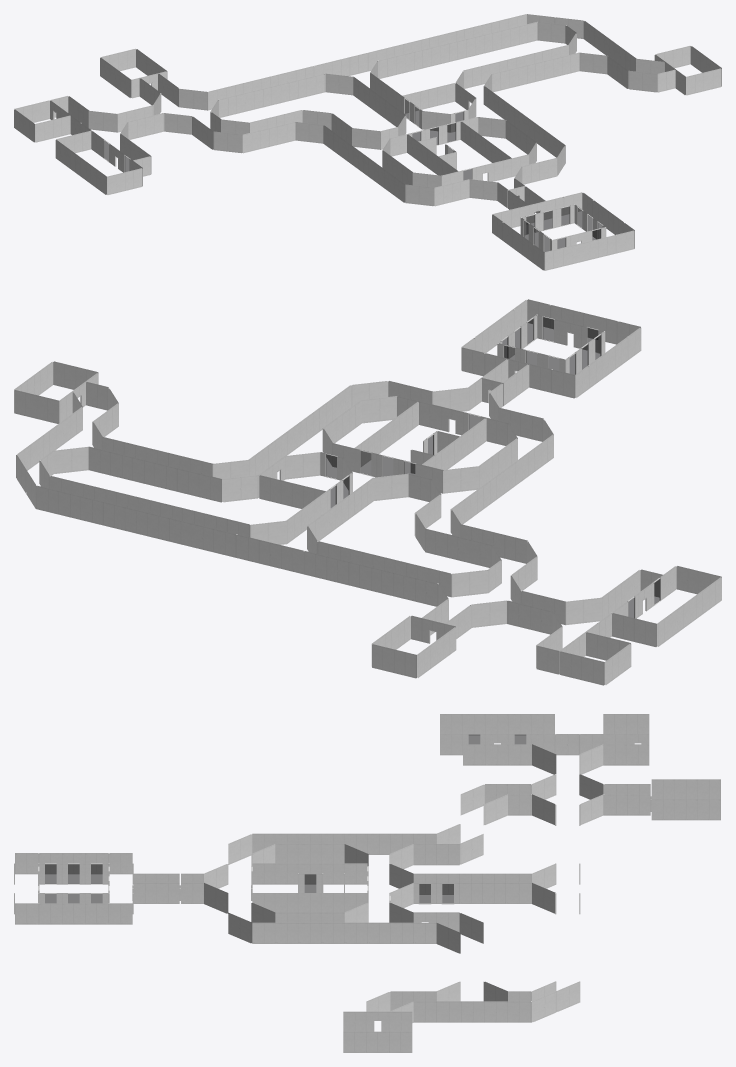
Rendered from Walls.fbx.
The picture shows the model from 3 angles, top to bottom: view 1: azimuth 30°, elevation 25°; view 2: azimuth 150°, elevation 25°; view 3: azimuth 270°, elevation 25°; orthographic projection. The views are drawn at different scales.
Parts seen in each view (by area): view 1: LabWallA162, LabWallA165, LabWallA217, LabWallA239, LabPillerA18, LabWallA163, LabWallD31, LabWallC19, LabWallA173, LabWallA216, LabWallA174, LabWallA194 (+30 smaller); view 2: LabPillerA18, LabWallA165, LabWallA239, LabWallA174, LabWallA194, LabWallA217, LabWallC19, LabWallC21, LabWallA162, LabWallA237, LabPillerA30, LabWallA236 (+33 smaller); view 3: LabWallC19, LabWallA166, LabWallA194, LabWallC4, LabWallA239, LabWallA217, LabWallA236, LabWallA213, LabWallA167, LabWallA37, LabWallD36, LabWallA12 (+19 smaller).
Part boxes in pixels (box(x1,y1,x2,y2)): LabWallA162: box(379, 22, 536, 78); LabWallA165: box(463, 45, 579, 92); LabWallA217: box(363, 155, 524, 207); LabWallA239: box(382, 120, 536, 187); LabPillerA18: box(349, 14, 554, 75); LabWallA163: box(219, 74, 324, 117); LabWallD31: box(579, 52, 675, 92); LabWallC19: box(353, 73, 422, 129); LabWallA173: box(202, 122, 295, 153); LabWallA216: box(544, 230, 634, 270); LabWallA174: box(207, 57, 349, 110); LabWallA194: box(514, 116, 565, 184); LabPillerA18: box(26, 471, 259, 563); LabWallA165: box(88, 437, 221, 502); LabWallA239: box(323, 396, 517, 487); LabWallA174: box(259, 540, 438, 606); LabWallA194: box(299, 381, 468, 445); LabWallA217: box(468, 378, 553, 494); LabWallC19: box(286, 473, 373, 543); LabWallC21: box(222, 452, 352, 502); LabWallA162: box(50, 476, 249, 537); LabWallA237: box(322, 428, 479, 493); LabPillerA30: box(461, 347, 575, 398); LabWallA236: box(410, 418, 486, 473); LabWallC19: box(413, 873, 531, 904); LabWallA166: box(413, 991, 556, 1022); LabWallA194: box(204, 883, 344, 943); LabWallC4: box(440, 734, 649, 755); LabWallA239: box(251, 844, 344, 922); LabWallA217: box(181, 833, 344, 903); LabWallA236: box(252, 863, 367, 892); LabWallA213: box(15, 903, 132, 924); LabWallA167: box(344, 922, 460, 953); LabWallA37: box(463, 744, 649, 765); LabWallD36: box(579, 774, 650, 825); LabWallA12: box(440, 714, 554, 735).
Size of the model in its own units: 16350 by 500 by 15379.
Materials: 2 (1 with a texture image).
